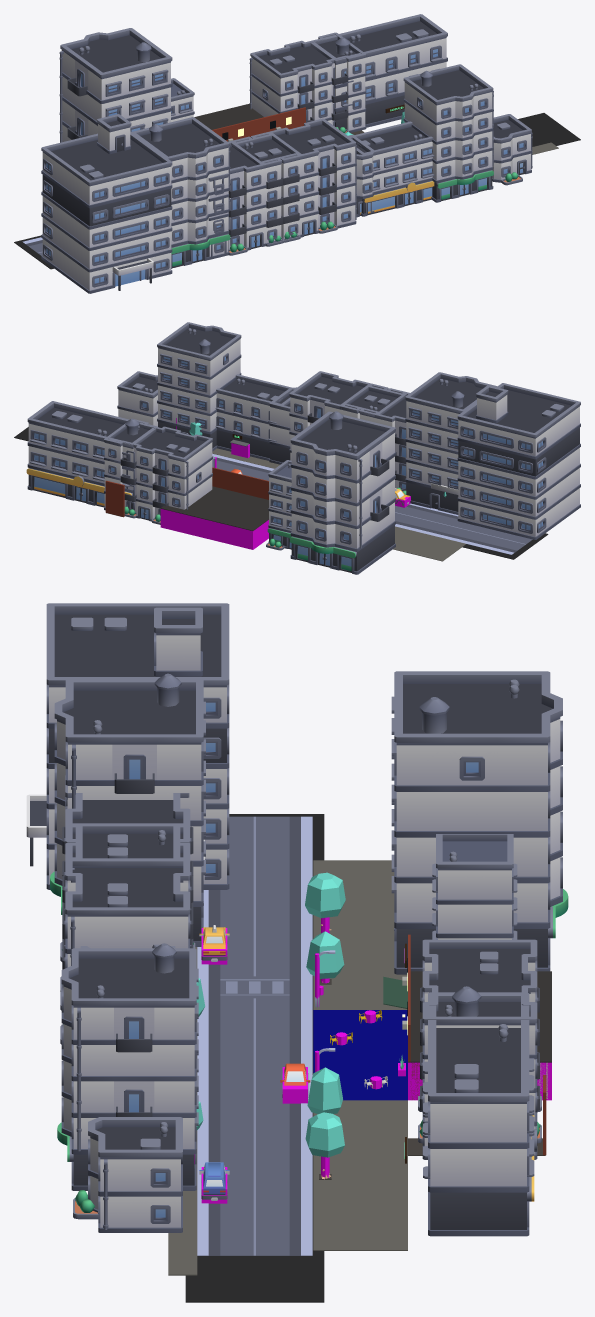
The model's file is suvaco.glb.
The picture shows the model from 3 angles, top to bottom: view 1: azimuth 30°, elevation 25°; view 2: azimuth 150°, elevation 25°; view 3: azimuth 270°, elevation 25°; orthographic projection. The views are drawn at different scales.
Visible parts, largest first — view 1: OCC_KEN_building-n_46, OCC_KEN_building-l_23, OCC_KEN_building-l_52, OCC_KEN_building-j_49, OCC_KEN_building-l_47, OCC_KEN_building-j_24, OCC_KEN_building-k_25, OCC_KEN_building-j_48, OCC_KEN_building-k_51, OCC_KEN_building-c_53, GROUND_under, OCC_facade_upper (+3 smaller); view 2: OCC_KEN_building-n_46, OCC_KEN_building-l_23, OCC_KEN_building-k_25, OCC_KEN_building-j_24, OCC_KEN_building-l_52, OCC_KEN_building-l_47, OCC_KEN_building-k_51, static_colormap_roads, OCC_KEN_building-j_49, OCC_ceiling, OCC_KEN_building-j_48, OCC_KEN_building-f_22 (+8 smaller); view 3: static_colormap_roads, OCC_KEN_building-l_23, OCC_KEN_building-l_52, OCC_KEN_building-k_25, OCC_KEN_building-n_46, OCC_KEN_building-l_47, OCC_KEN_building-j_49, FLOOR_sidewalk1, OCC_KEN_building-c_53, OCC_KEN_building-j_24, FLOOR_sidewalk-1, OCC_KEN_building-f_22 (+10 smaller).
Boxes of the visible parts, bbox=[...] form: OCC_KEN_building-n_46: bbox=[41, 114, 172, 293]; OCC_KEN_building-l_23: bbox=[59, 28, 172, 142]; OCC_KEN_building-l_52: bbox=[403, 64, 493, 202]; OCC_KEN_building-j_49: bbox=[230, 118, 356, 246]; OCC_KEN_building-l_47: bbox=[131, 117, 230, 268]; OCC_KEN_building-j_24: bbox=[249, 32, 366, 133]; OCC_KEN_building-k_25: bbox=[310, 14, 447, 131]; OCC_KEN_building-j_48: bbox=[208, 132, 302, 259]; OCC_KEN_building-k_51: bbox=[349, 121, 434, 216]; OCC_KEN_building-c_53: bbox=[492, 114, 532, 185]; GROUND_under: bbox=[14, 113, 580, 269]; OCC_facade_upper: bbox=[212, 107, 305, 141]; OCC_KEN_building-n_46: bbox=[431, 383, 580, 539]; OCC_KEN_building-l_23: bbox=[289, 411, 395, 574]; OCC_KEN_building-k_25: bbox=[26, 401, 157, 510]; OCC_KEN_building-j_24: bbox=[104, 419, 212, 524]; OCC_KEN_building-l_52: bbox=[157, 322, 241, 451]; OCC_KEN_building-l_47: bbox=[405, 372, 497, 514]; OCC_KEN_building-k_51: bbox=[215, 374, 294, 460]; static_colormap_roads: bbox=[212, 453, 532, 554]; OCC_KEN_building-j_49: bbox=[289, 371, 407, 460]; OCC_ceiling: bbox=[160, 486, 268, 530]; OCC_KEN_building-j_48: bbox=[339, 383, 409, 494]; OCC_KEN_building-f_22: bbox=[266, 460, 291, 550]; static_colormap_roads: bbox=[194, 816, 335, 1255]; OCC_KEN_building-l_23: bbox=[391, 671, 568, 974]; OCC_KEN_building-l_52: bbox=[57, 943, 198, 1190]; OCC_KEN_building-k_25: bbox=[423, 986, 536, 1236]; OCC_KEN_building-n_46: bbox=[26, 603, 229, 889]; OCC_KEN_building-l_47: bbox=[50, 673, 205, 946]; OCC_KEN_building-j_49: bbox=[60, 823, 193, 1044]; FLOOR_sidewalk1: bbox=[313, 1100, 407, 1250]; OCC_KEN_building-c_53: bbox=[73, 1117, 182, 1232]; OCC_KEN_building-j_24: bbox=[418, 939, 541, 1159]; FLOOR_sidewalk-1: bbox=[313, 860, 407, 1009]; OCC_KEN_building-f_22: bbox=[432, 834, 517, 939].
Bounding box in the file's own units: 100 × 25.11 × 46.92.
59 materials, 3 textured.
